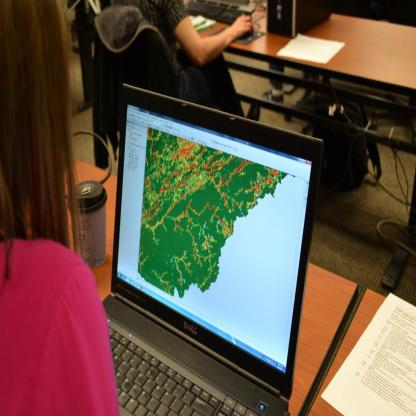board: (83, 101, 333, 416)
